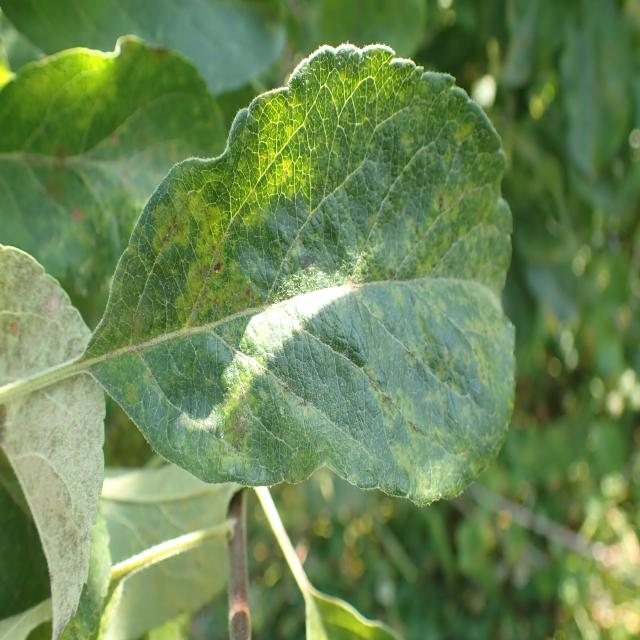scab: (93, 77, 516, 482)
